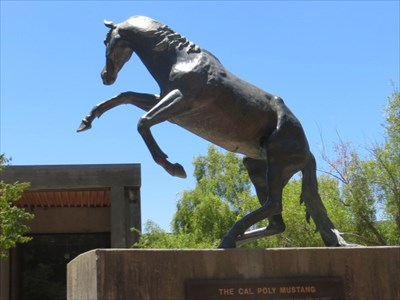Horse: (69, 14, 336, 259)
